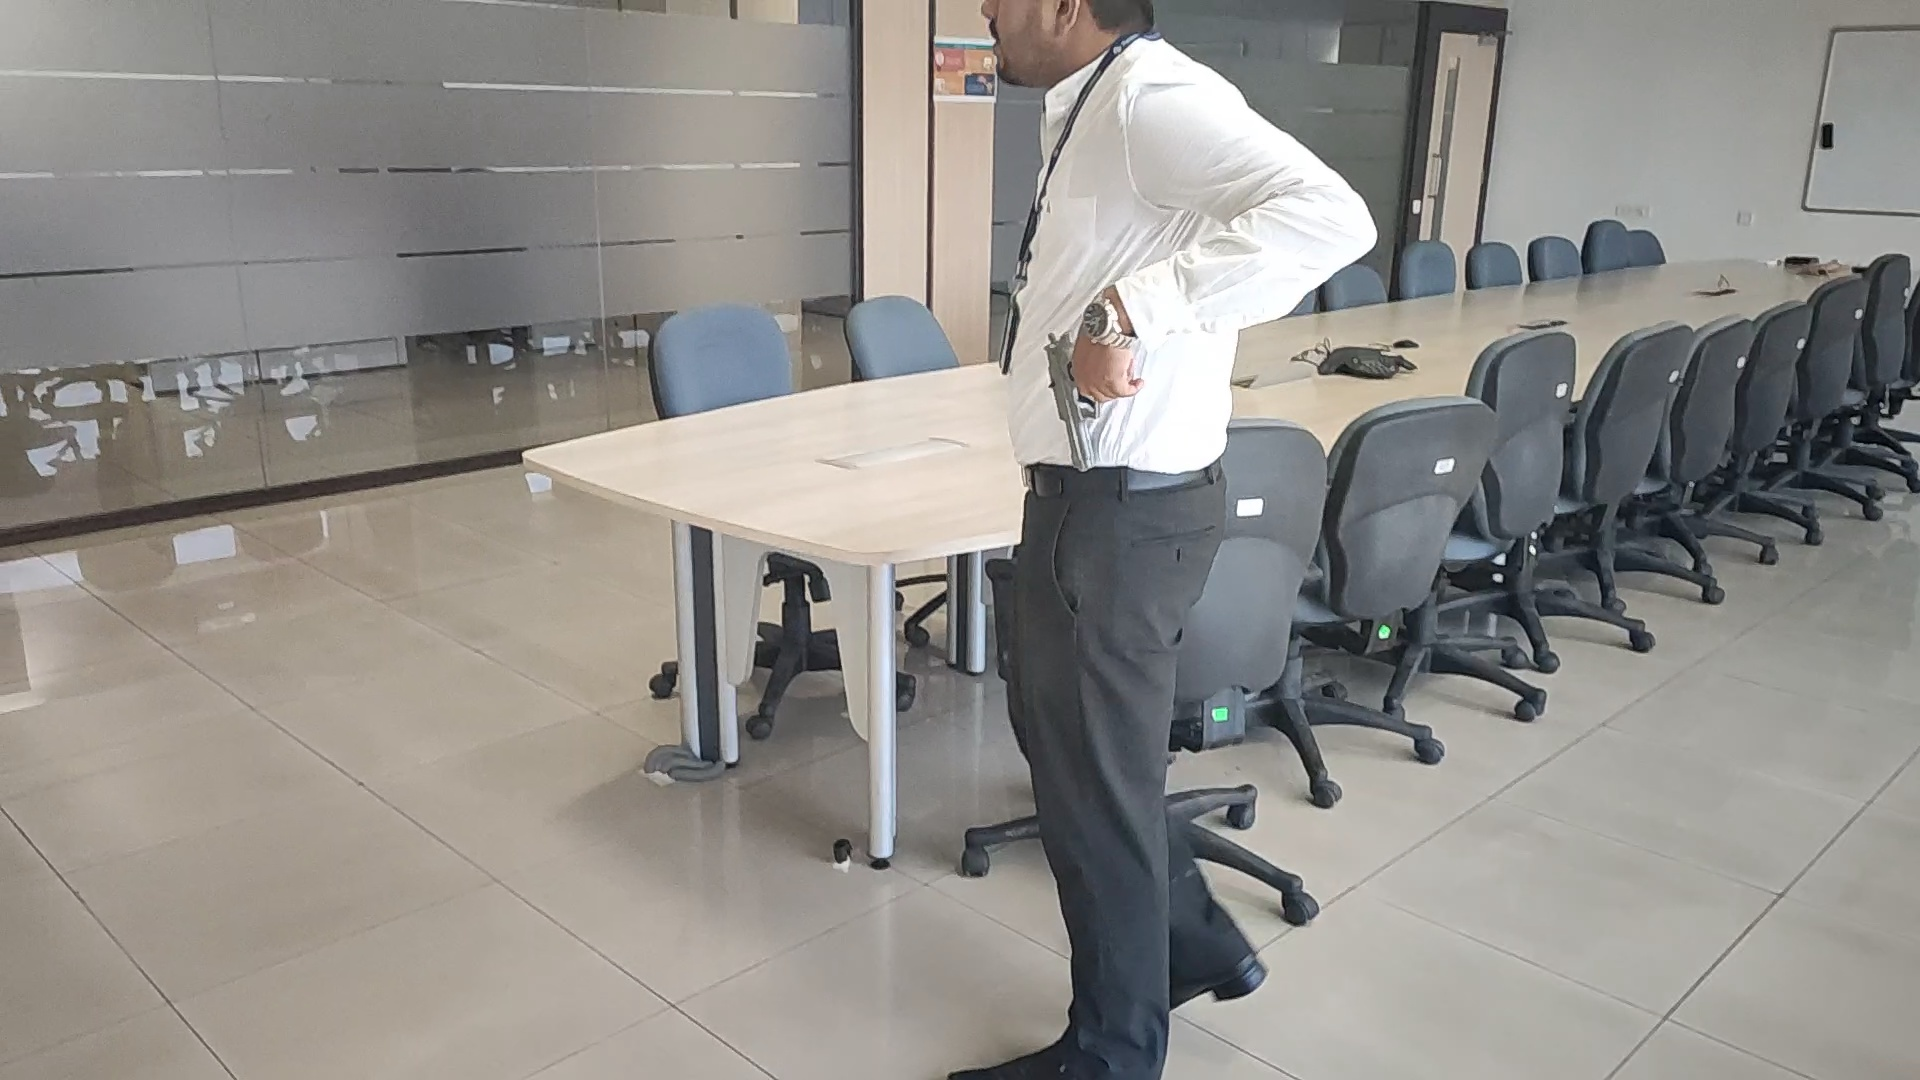gun: (1040, 330, 1104, 475)
